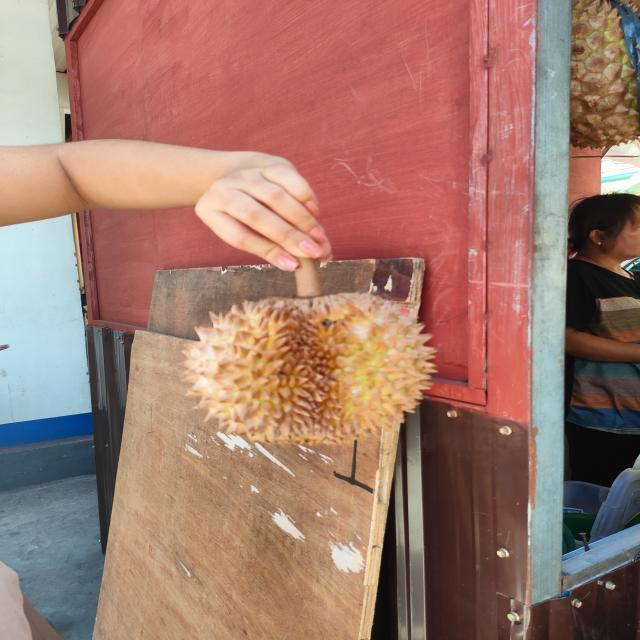mature: (176, 291, 441, 449)
